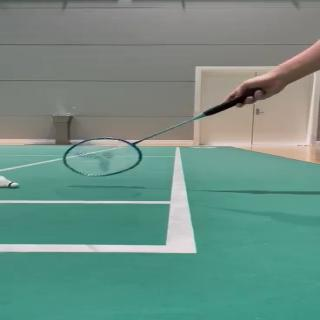Shuttle: (0, 176, 20, 188)
